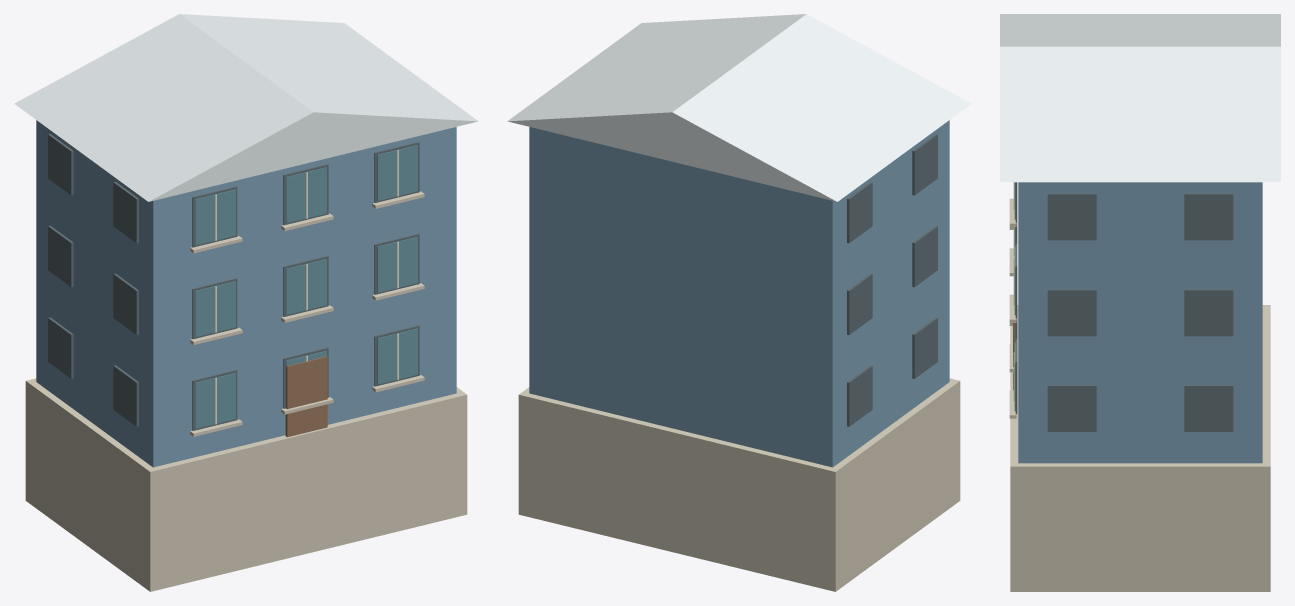
The model's file is polar-2.glb.
3 renders of one model, left to right at view 1: azimuth 30°, elevation 25°; view 2: azimuth 150°, elevation 25°; view 3: azimuth 270°, elevation 25°, orthographic. The views are drawn at different scales.
Size of the model in its own units: 9.8 by 12.6 by 6.9.
